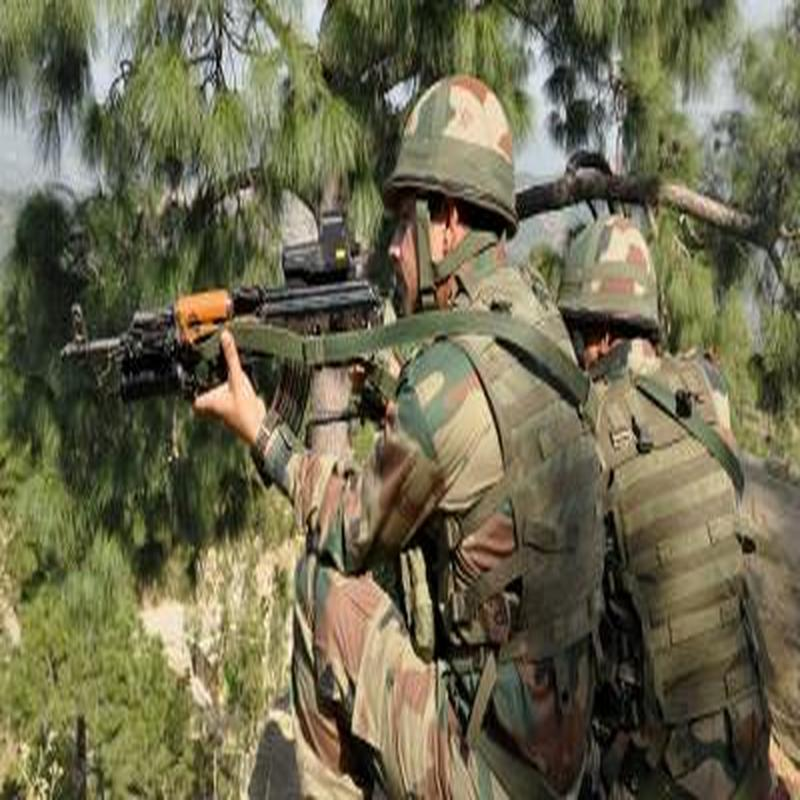GUN: (33, 208, 450, 461)
